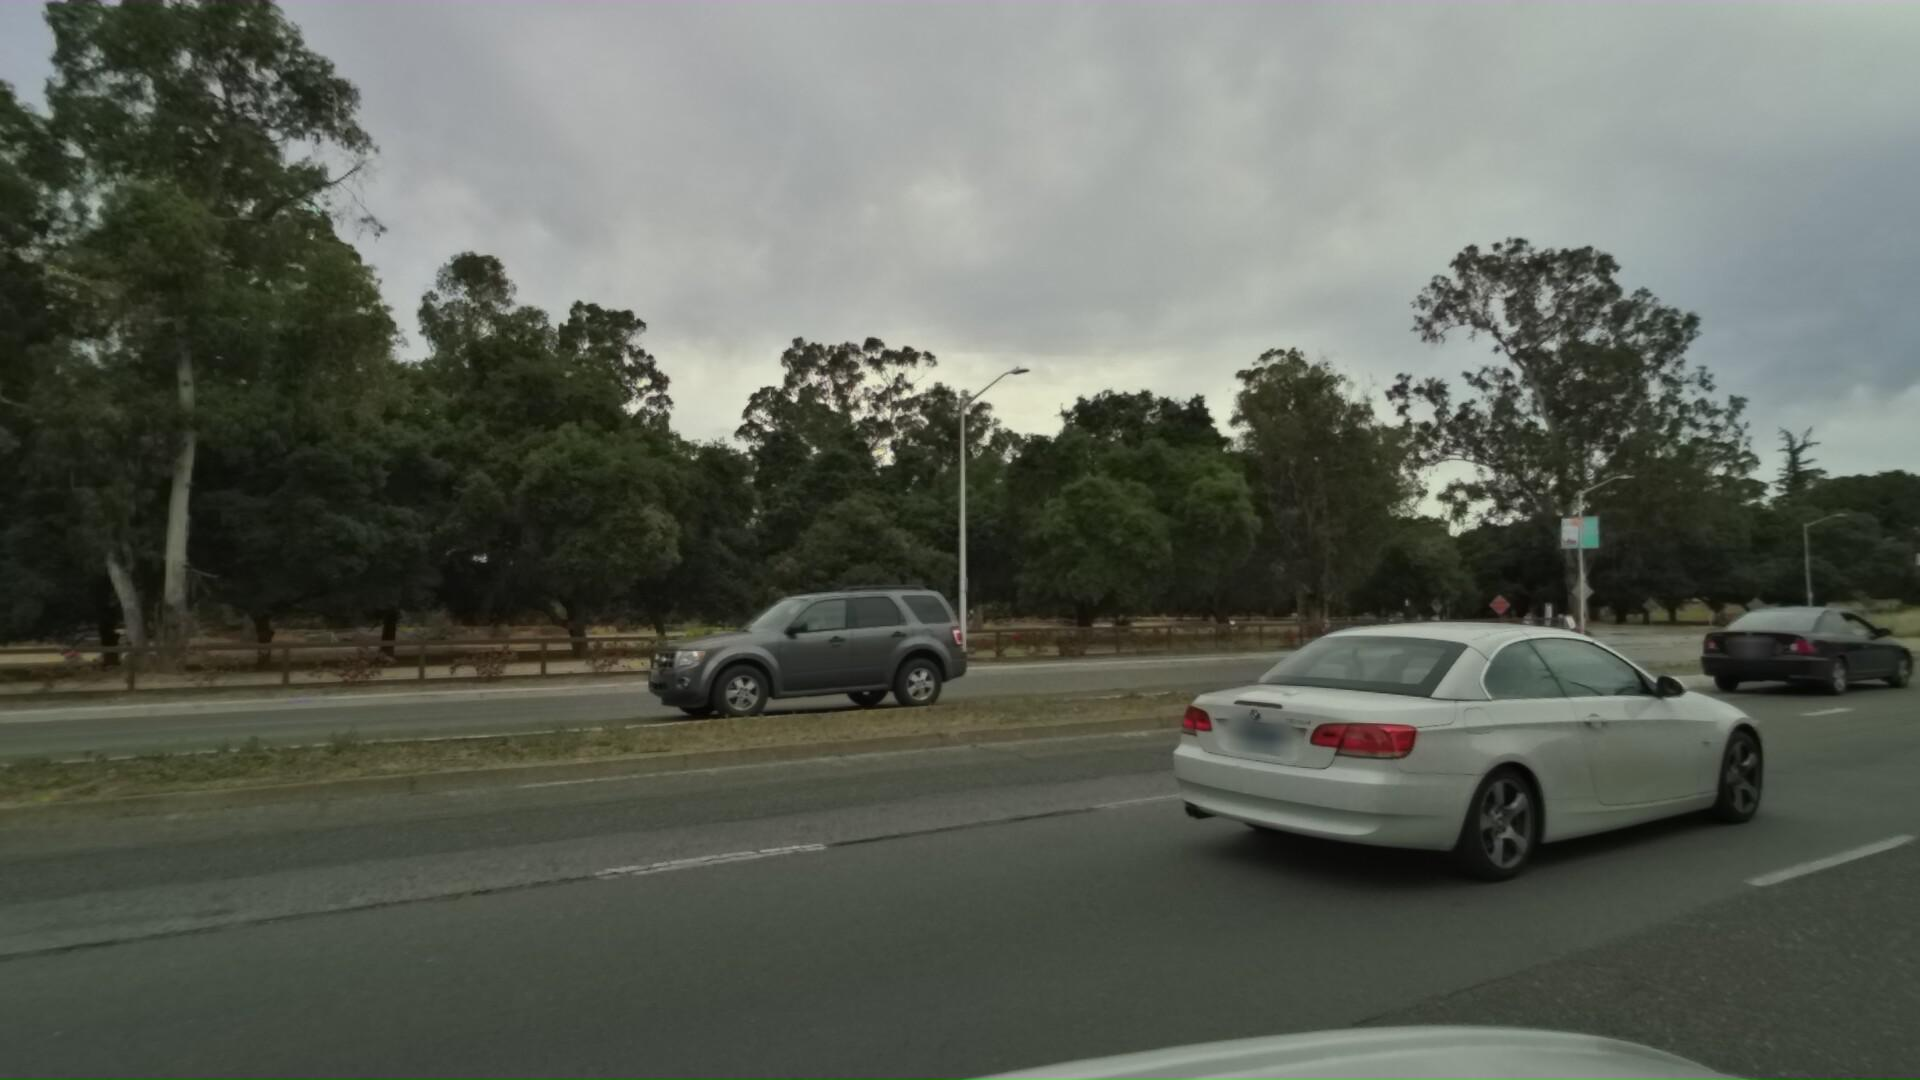car: (1151, 618, 1833, 927), (572, 568, 924, 727), (1685, 597, 1920, 702)
